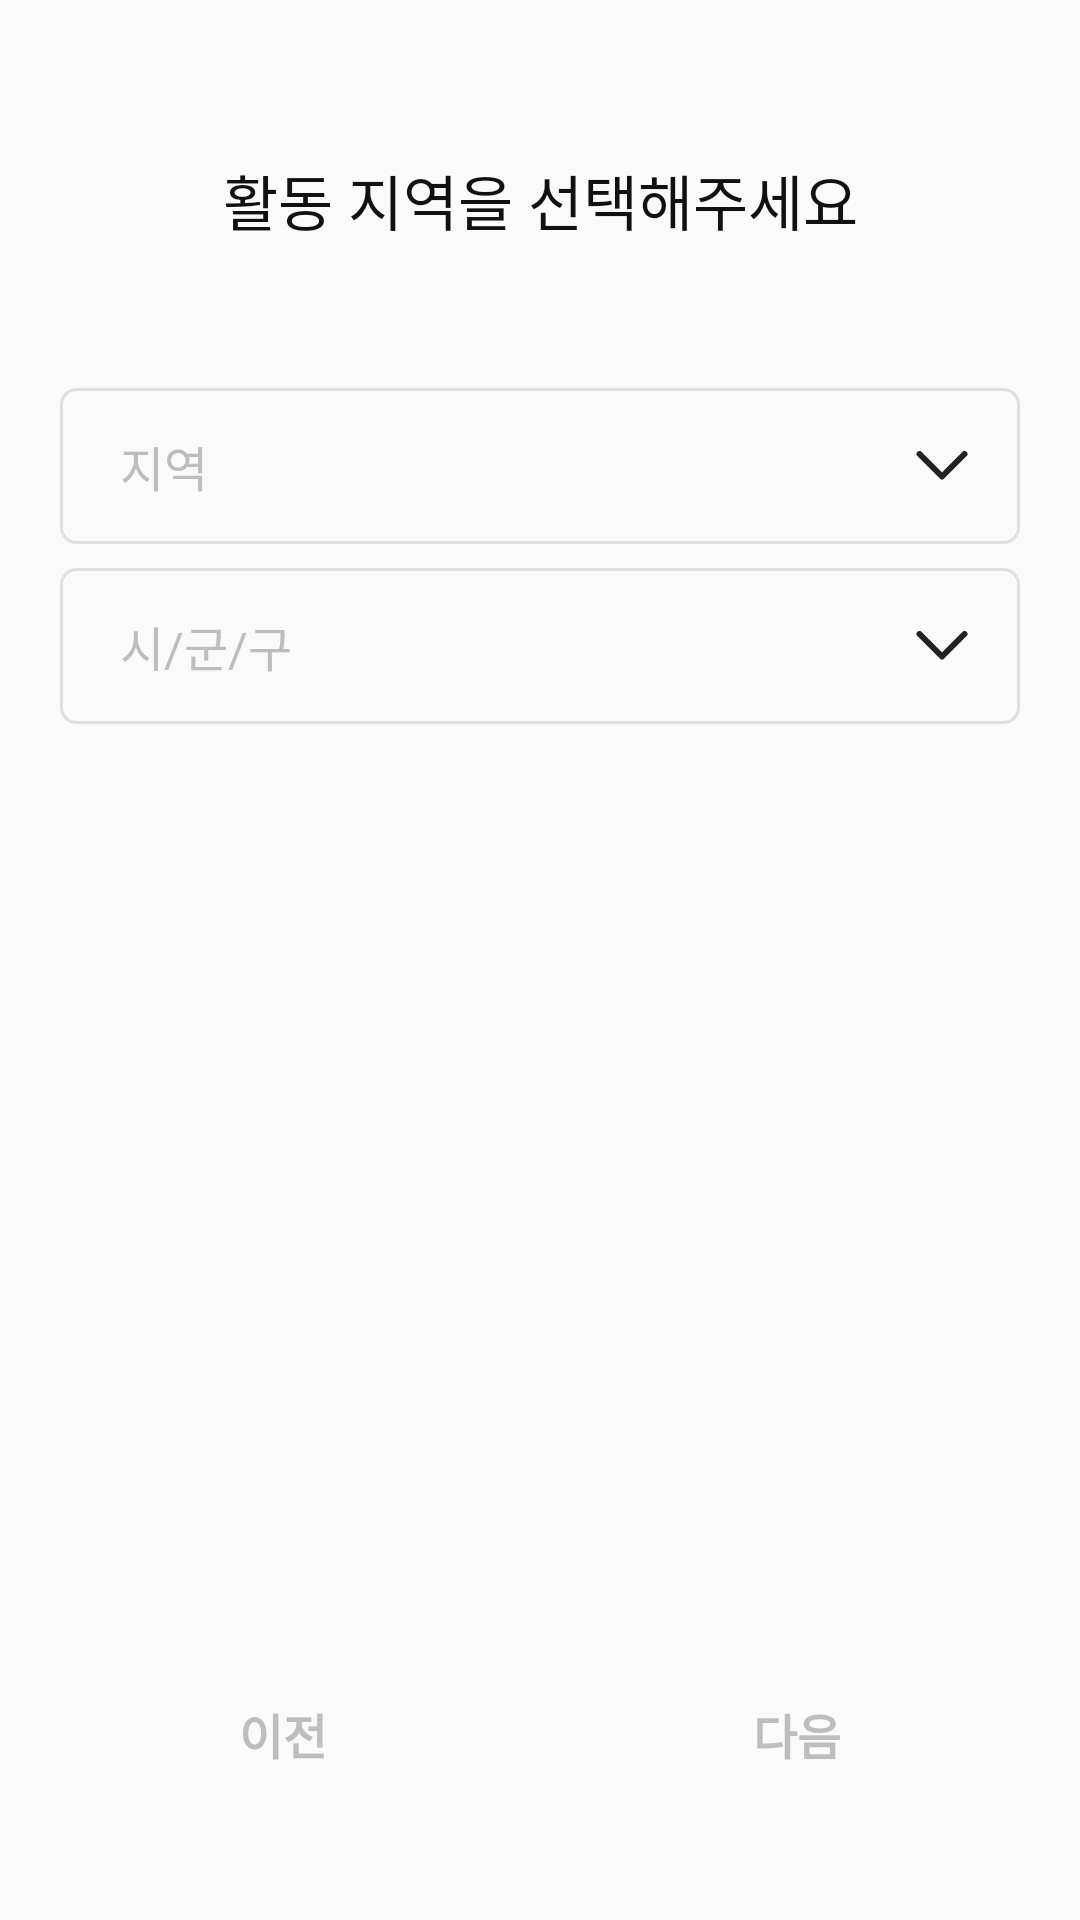

Icons on this 1080 x 1920 Android screen, each with the point to tap as point (x, y):
dropdown: point (942, 465), point (942, 645)
